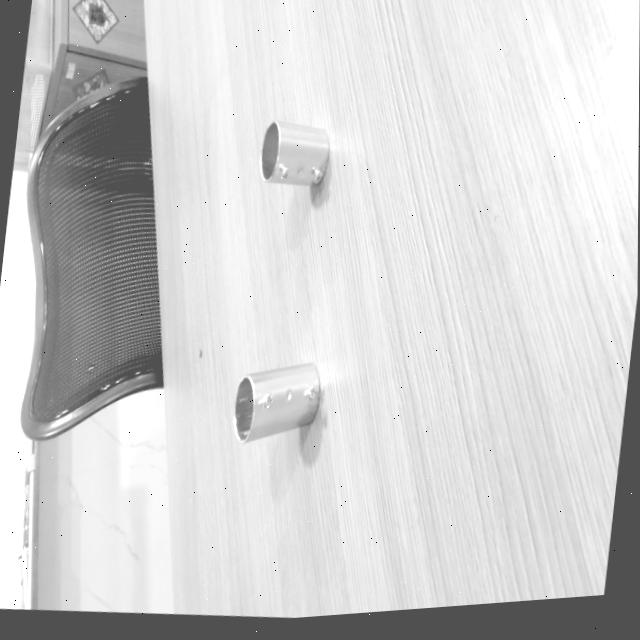Co_Lon: (221, 355, 330, 443)
Co_Nho: (256, 117, 332, 190)
